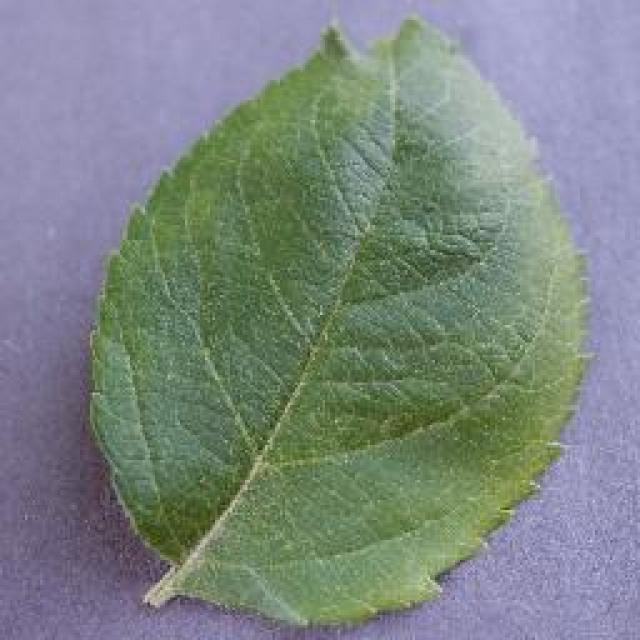apple healthy: (83, 10, 595, 628)
